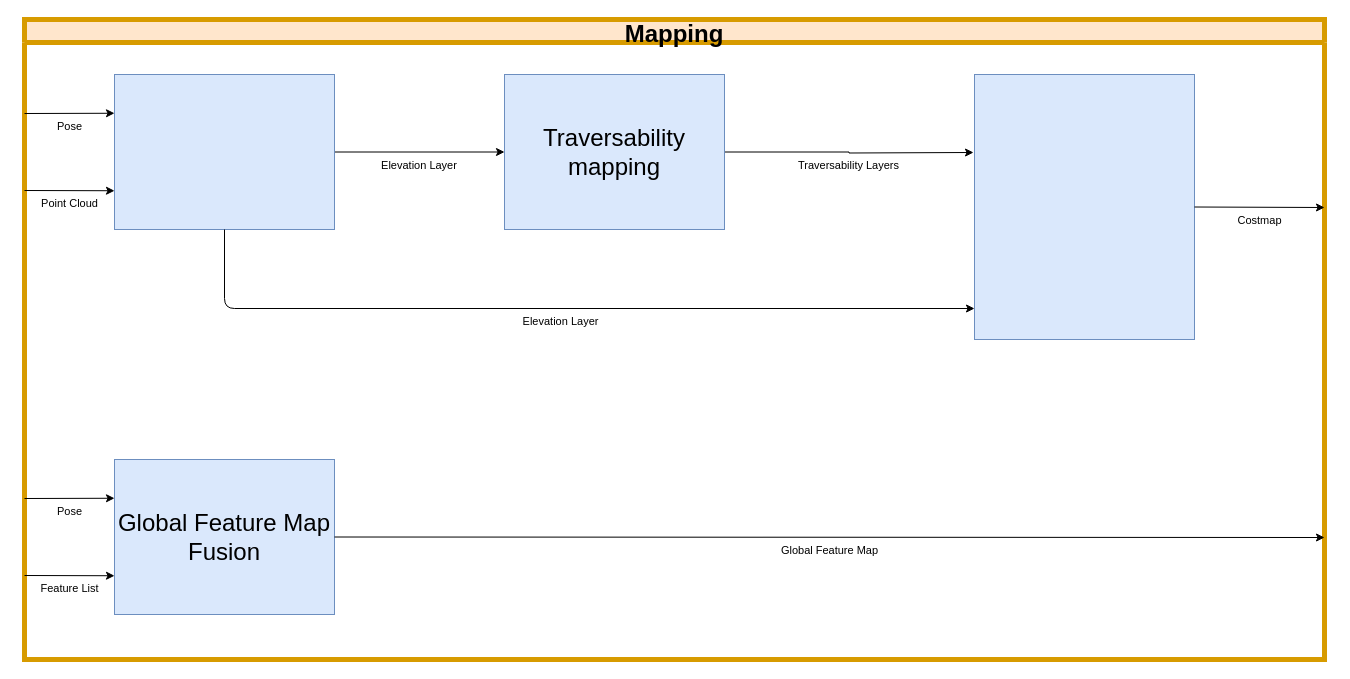
The diagram is 1350 pixels wide and 679 high, and some of its shapes have lost their labels. The centre of each missing label's shape, as x and y in pixels:
Elevation mapping: (x=224, y=152)
Local costmap: (x=1084, y=207)
